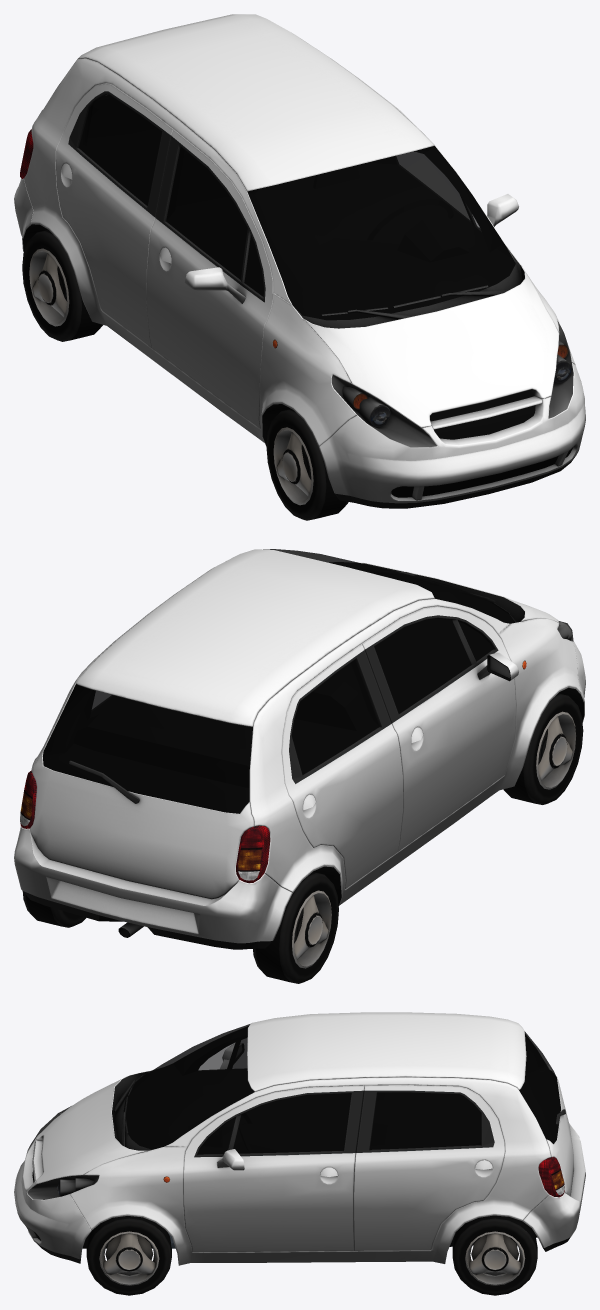
Rendered from compact.glb.
The picture shows the model from 3 angles, top to bottom: view 1: azimuth 30°, elevation 25°; view 2: azimuth 150°, elevation 25°; view 3: azimuth 270°, elevation 25°; orthographic projection. The views are drawn at different scales.
Visible parts, largest first — view 1: Compact Body_Body_0, Compact Body_Glass_0, Door skin and glass (×4), TyreRim (×2), Lamp head; view 2: Compact Body_Body_0, Compact Body_Glass_0, Door skin and glass (×2), TyreRim (×3), Lamp brake; view 3: Compact Body_Body_0, Door skin and glass (×3), Compact Body_Glass_0, TyreRim (×2), Lamp brake.
Boxes of the visible parts, box(x1,y1,x2,y2) form: Compact Body_Body_0: box(14, 14, 585, 508); Compact Body_Glass_0: box(59, 84, 573, 447); Door skin and glass (×4): box(144, 131, 518, 433); TyreRim (×2): box(22, 229, 348, 520); Lamp head: box(353, 345, 571, 426); Compact Body_Body_0: box(14, 549, 585, 949); Compact Body_Glass_0: box(43, 549, 573, 813); Door skin and glass (×2): box(368, 597, 536, 849); TyreRim (×3): box(22, 693, 583, 983); Lamp brake: box(20, 770, 270, 883); Compact Body_Body_0: box(14, 1012, 585, 1265); Door skin and glass (×3): box(162, 1035, 357, 1250); Compact Body_Glass_0: box(27, 1024, 560, 1199); TyreRim (×2): box(86, 1215, 537, 1295); Lamp brake: box(538, 1157, 564, 1197).
Size of the model in its own units: 1.88 by 1.53 by 3.8.
Materials: 7 (5 with a texture image).
